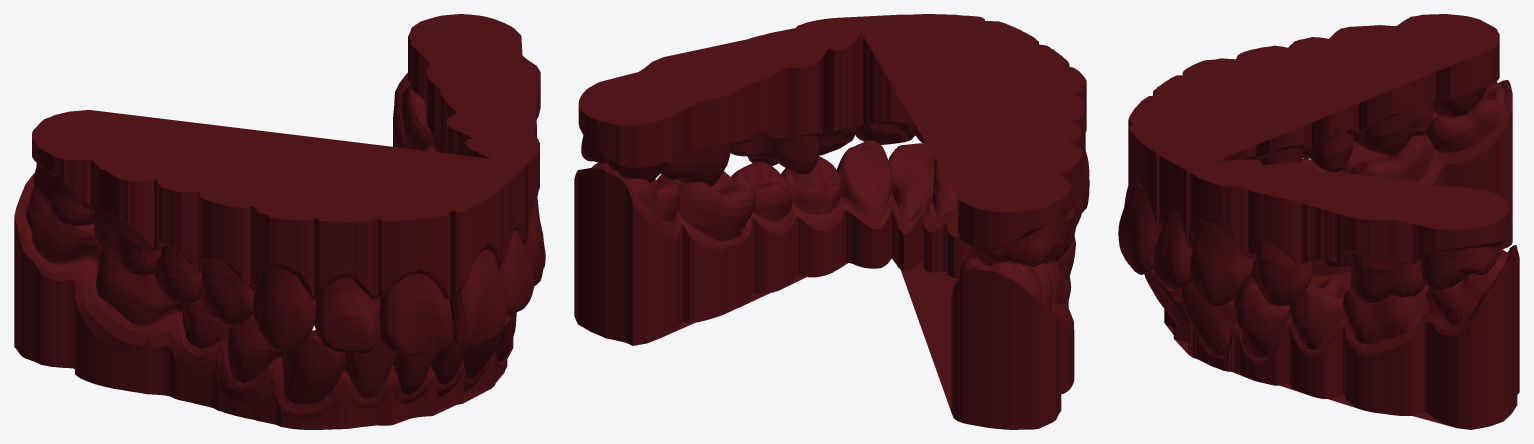
Rendered from teeth Retopo.fbx.
3 renders of one model, left to right at view 1: azimuth 30°, elevation 25°; view 2: azimuth 150°, elevation 25°; view 3: azimuth 270°, elevation 25°, orthographic. The views are drawn at different scales.
Parts seen in each view (by area): view 1: Retopo-Top-Jaw.002, Retopo-Lower-Jaw.001; view 2: Retopo-Top-Jaw.002, Retopo-Lower-Jaw.001; view 3: Retopo-Top-Jaw.002, Retopo-Lower-Jaw.001.
Boxes of the visible parts, <box> form: Retopo-Top-Jaw.002: <box>32,14,545,356</box>; Retopo-Lower-Jaw.001: <box>14,73,516,429</box>; Retopo-Top-Jaw.002: <box>578,14,1089,266</box>; Retopo-Lower-Jaw.001: <box>574,140,1075,429</box>; Retopo-Top-Jaw.002: <box>1118,14,1509,306</box>; Retopo-Lower-Jaw.001: <box>1144,80,1519,429</box>.
Bounding box in the file's own units: 2023 × 862 × 1569.
